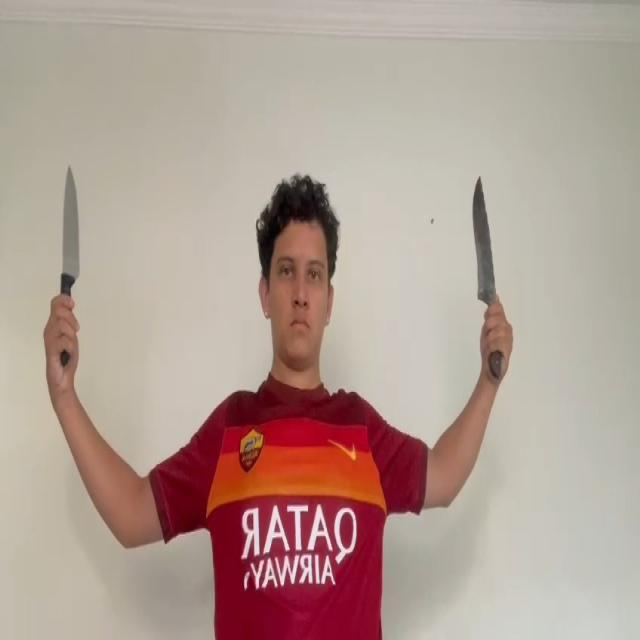knife: (472, 177, 496, 301), (61, 159, 80, 278)
